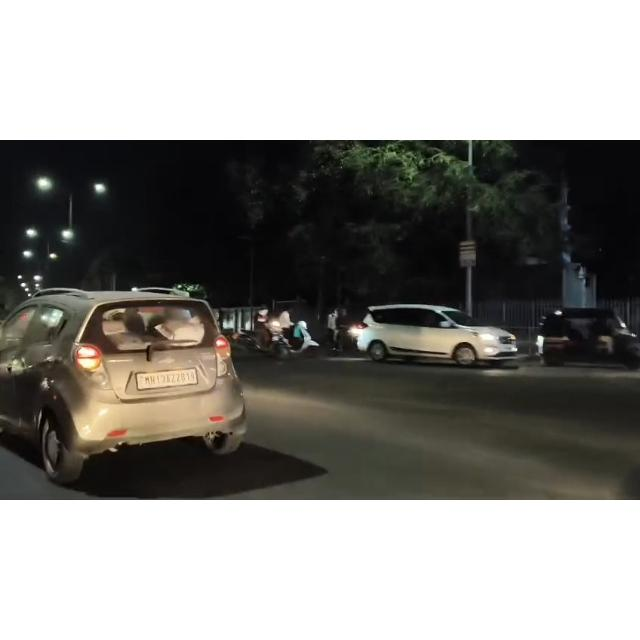auto: (537, 290, 640, 372)
car: (1, 270, 263, 487), (356, 293, 528, 379)
